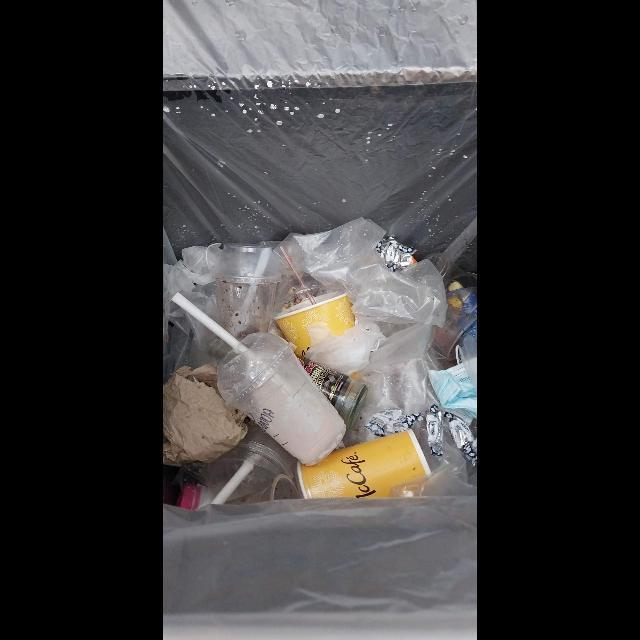glass: (294, 353, 368, 432)
paper: (296, 429, 430, 498), (163, 364, 247, 465), (274, 291, 355, 355)
plastic: (255, 219, 448, 374), (217, 332, 346, 466), (213, 243, 282, 342), (207, 426, 296, 501)
wrapper: (443, 411, 477, 466), (365, 409, 426, 435), (375, 238, 416, 272), (426, 404, 444, 458)
